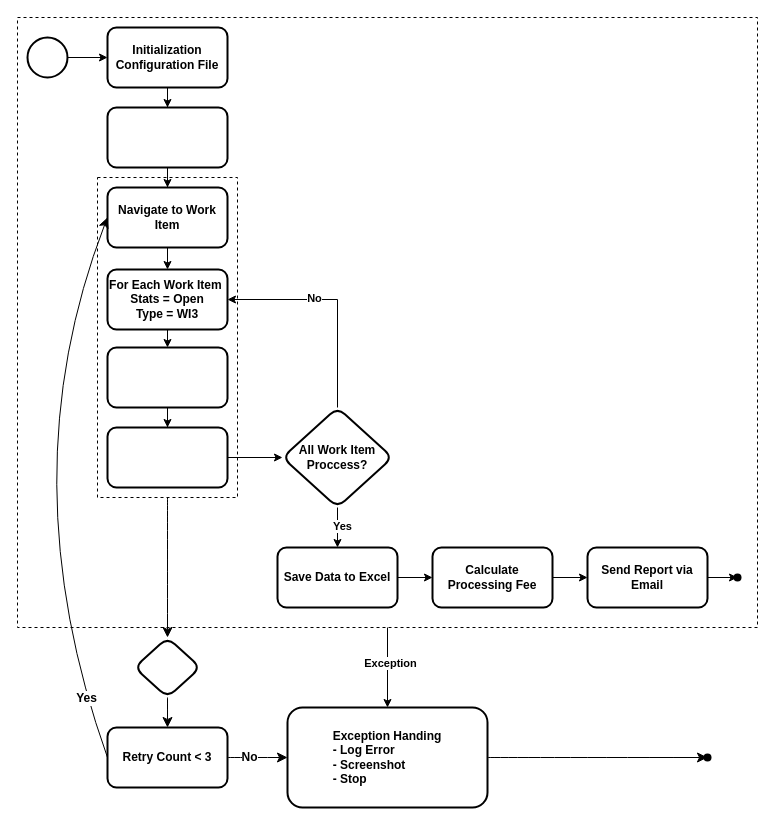
Some shapes in this 775 by 826 pixel diagram are drawn without their labels. Here are the shapes that lost their labels. From the top down, the centre of each, then its label:
At point (167, 137): "Login to ACME System 1".
At point (167, 377): "Extract Invoice Details & Download Invoice PDF".
At point (167, 457): "Update Work Item".
At point (167, 667): "Error".
